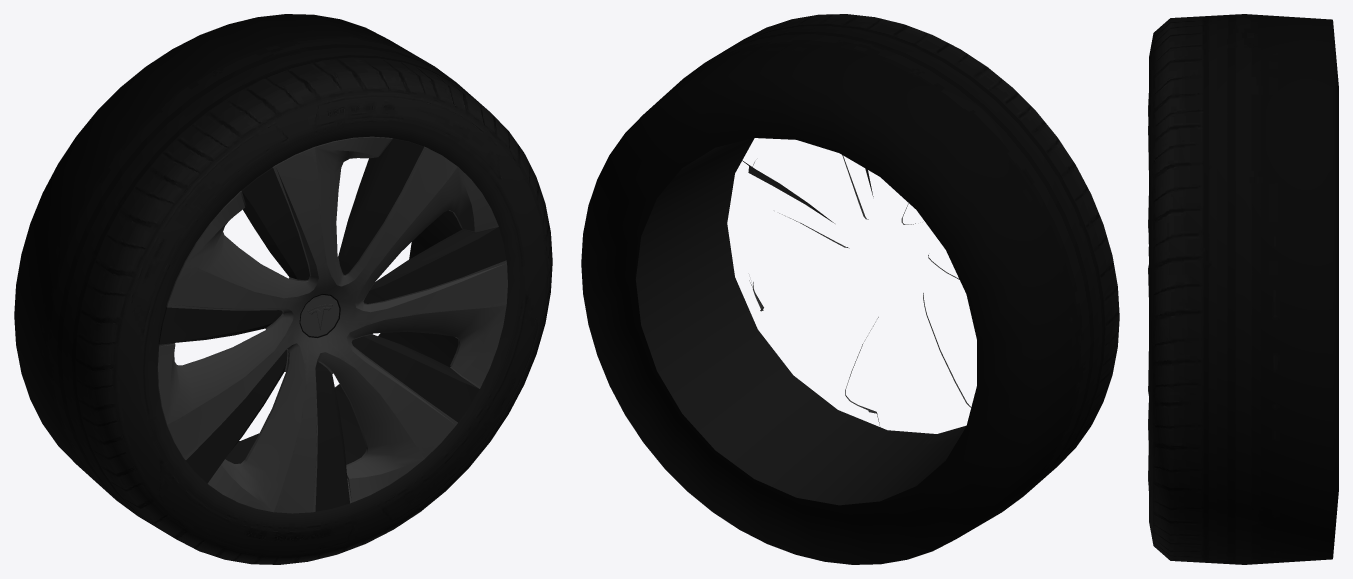
The model's file is Wheel_Tempest_Sonic_Silver.glb.
3 views of the same model, side by side, from view 1: azimuth 30°, elevation 25°; view 2: azimuth 150°, elevation 25°; view 3: azimuth 270°, elevation 25° (orthographic). The views are drawn at different scales.
Visible parts, largest first — view 1: Tempest_Wheel; view 2: Tempest_Wheel; view 3: Tempest_Wheel.
Part boxes in pixels (left/top/right/bottom): Tempest_Wheel: left=14, top=14, right=552, bottom=564; Tempest_Wheel: left=581, top=14, right=1119, bottom=564; Tempest_Wheel: left=1148, top=14, right=1338, bottom=564.
Size of the model in its own units: 0.7408 by 0.7394 by 0.2568.
2 materials, 2 textured.
